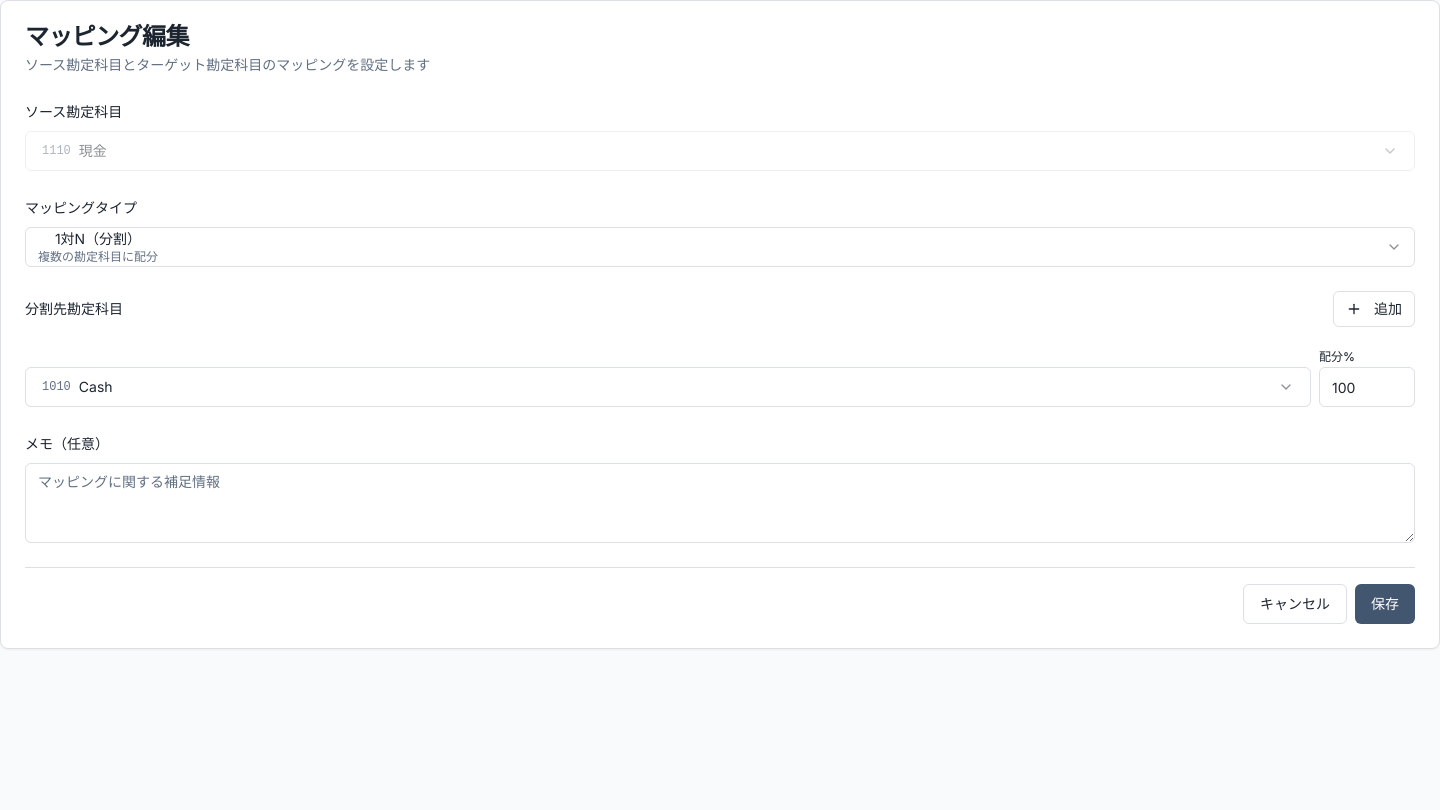
conversion/mapping-editor — 1toN split mapping › adds a split row, then removes it, tracking the percentage input count
The width and height of the screenshot is (1440, 810).
Expected: the number of number fields is 1, [1319,367,1415,407]
Click the button "追加". click: click(1374, 309)
box: [1333,291,1415,327]
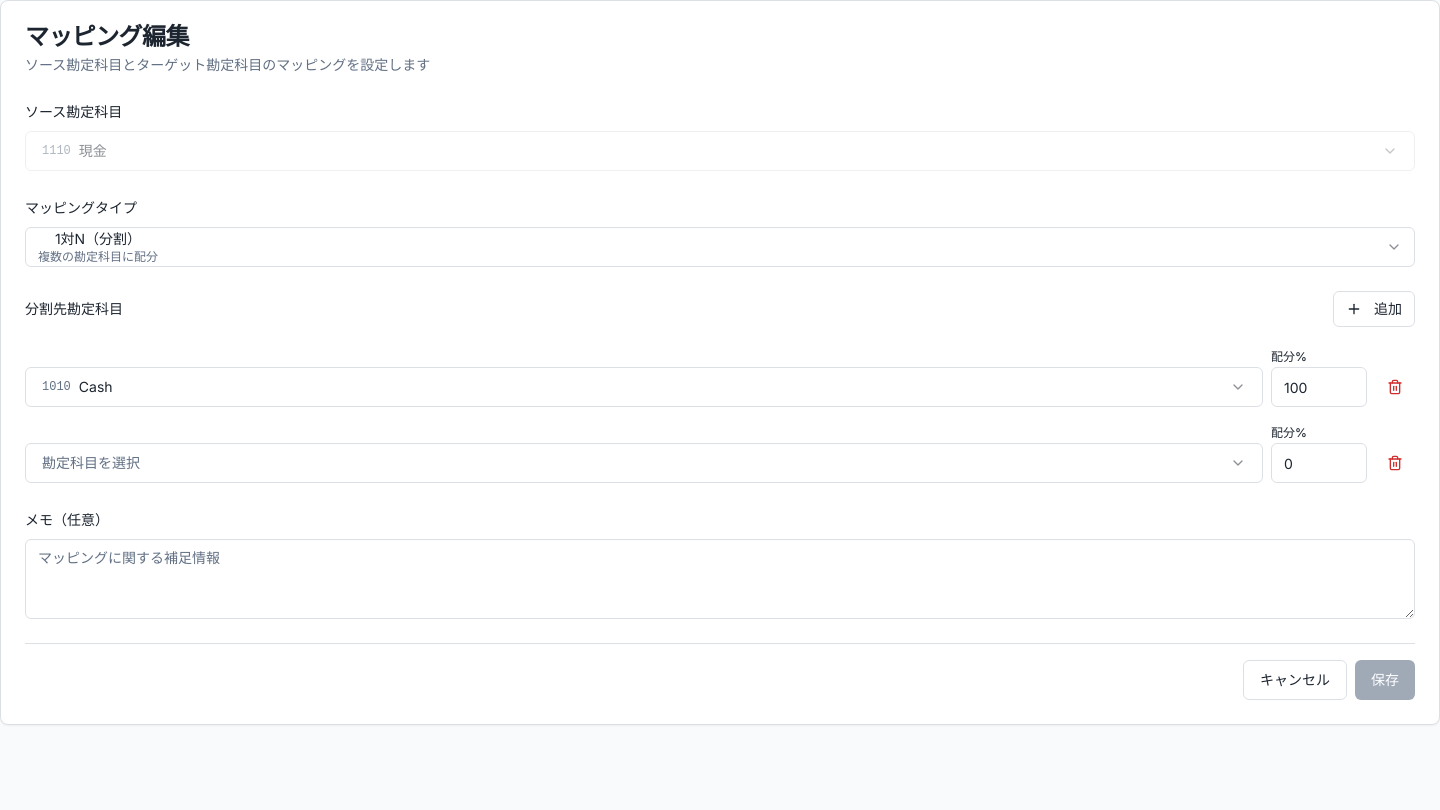
Expected: the number of number fields is 2, [1271,367,1367,407]; [1271,443,1367,483]
Click the button with class "lucide-trash-2". click: click(1395, 387)
box: [1375,367,1415,407]
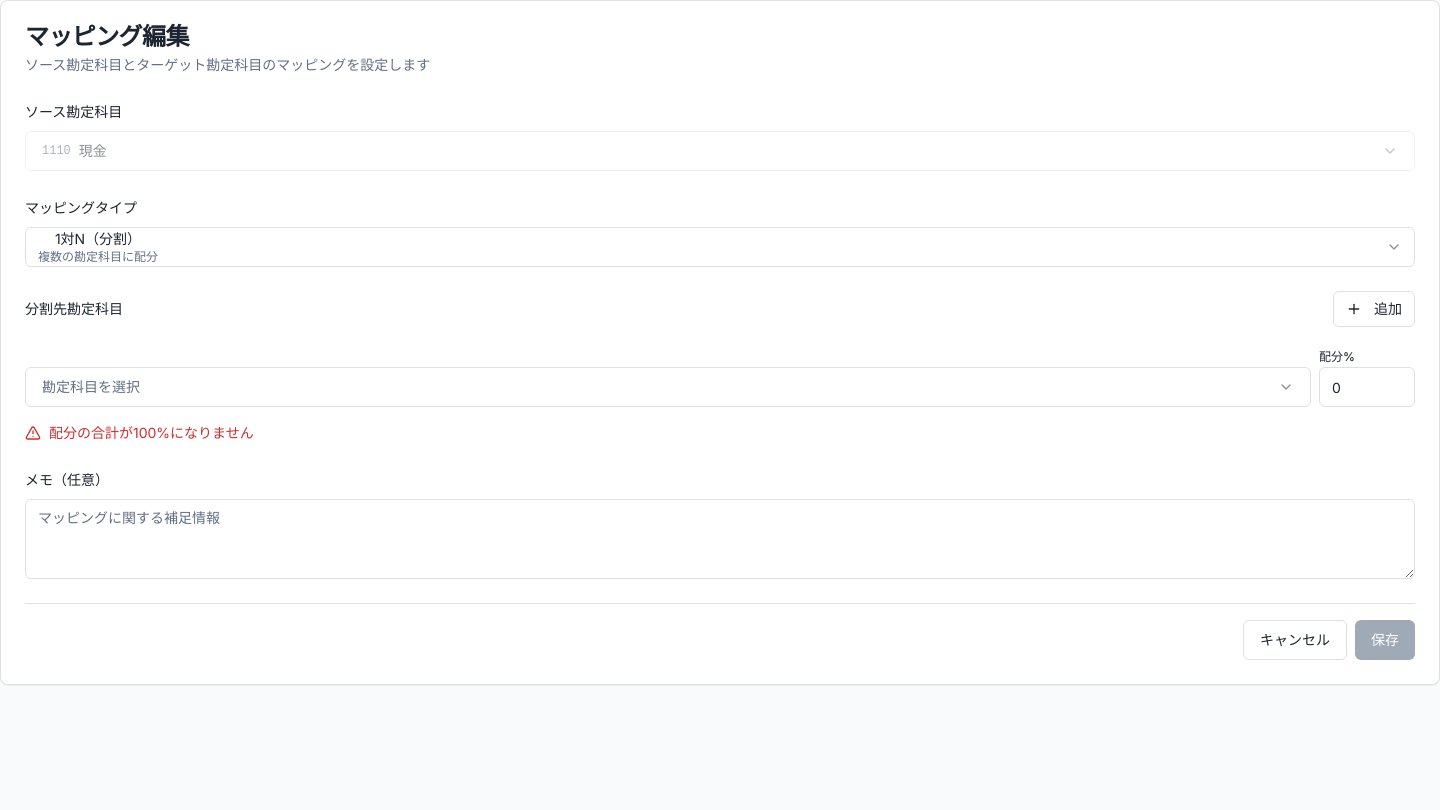
Expected: the number of number fields is 1, [1319,367,1415,407]
